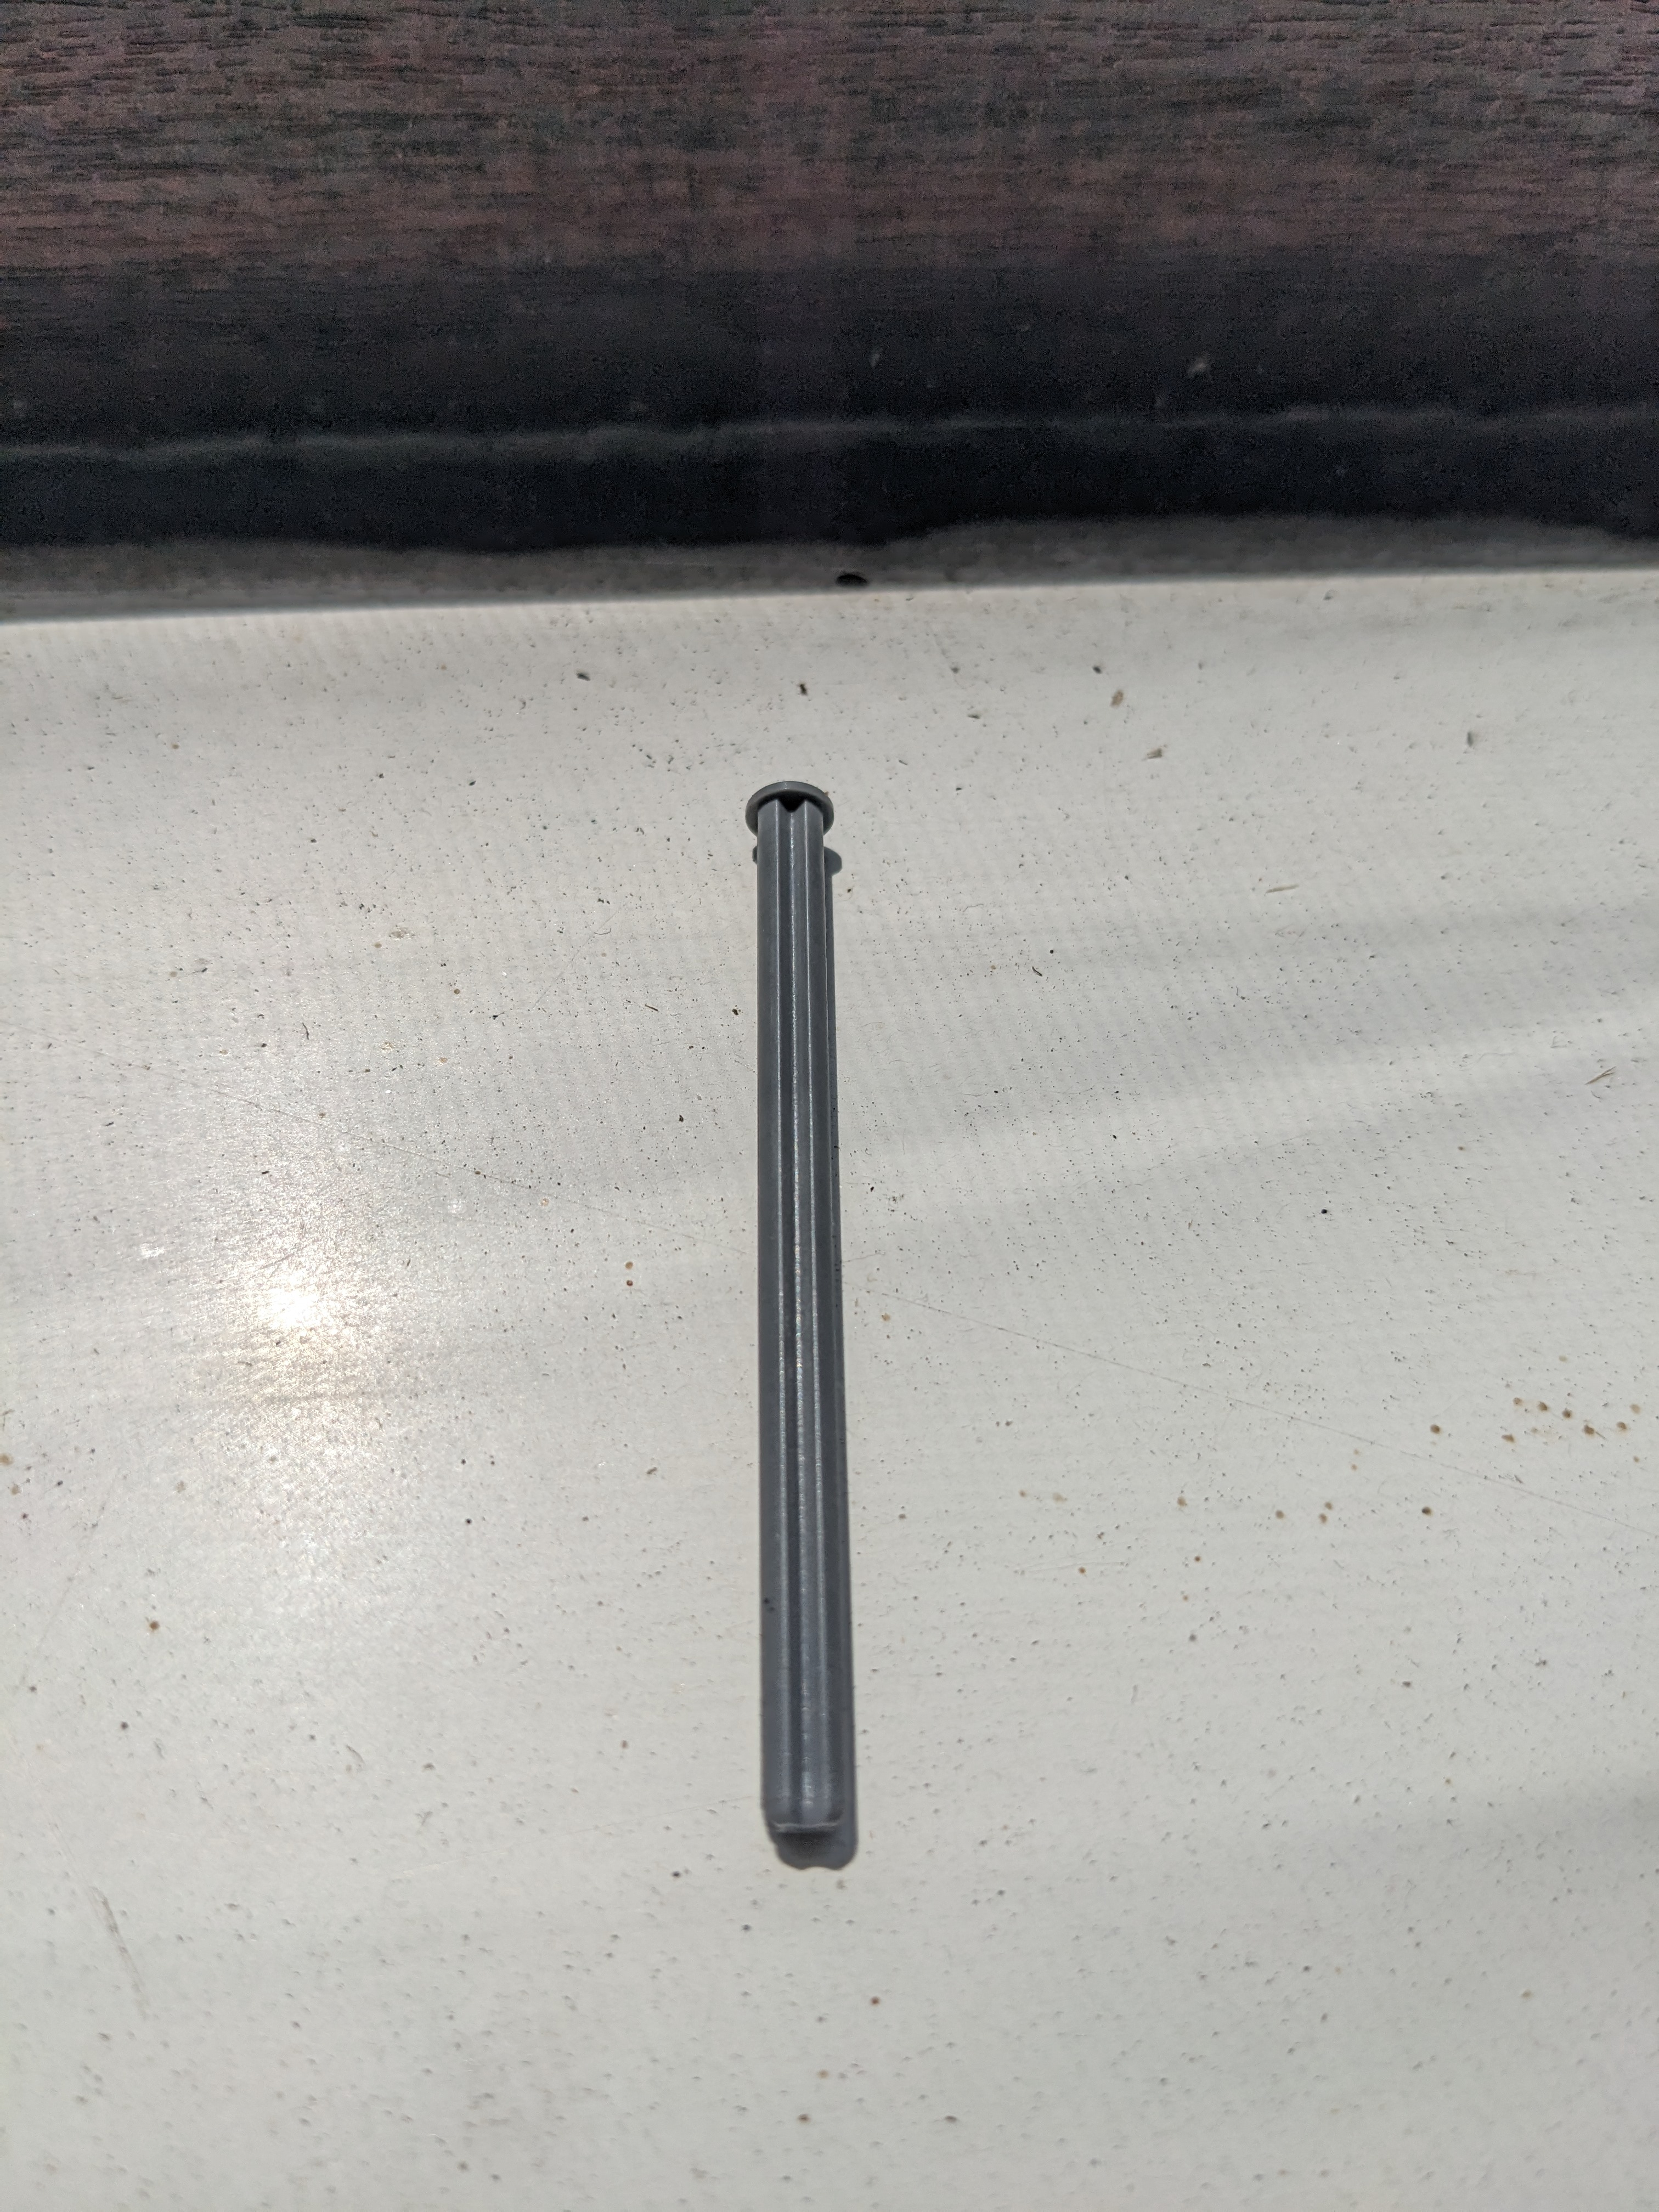Grau_lang: (720, 765, 884, 1874)
